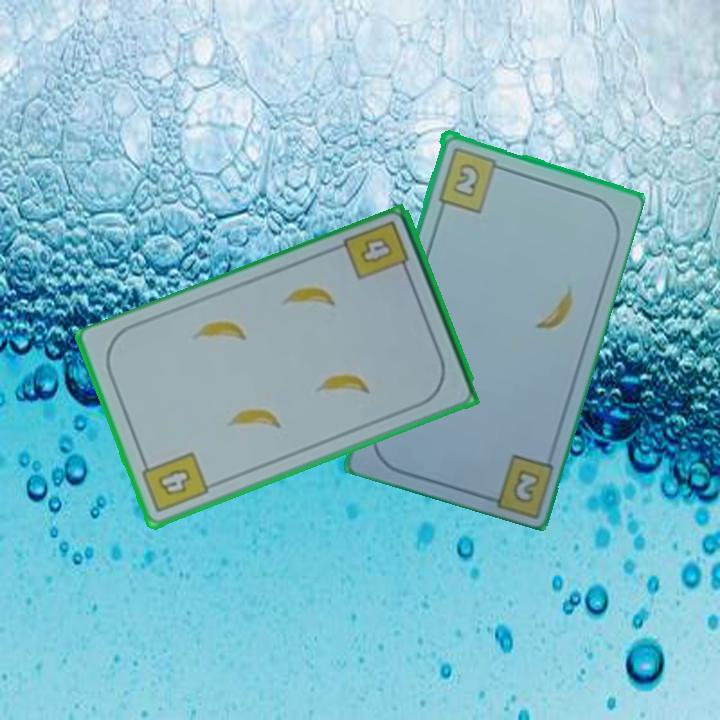2b: (434, 143, 507, 215), (508, 465, 543, 503)
4b: (137, 448, 212, 516), (340, 217, 413, 283)
